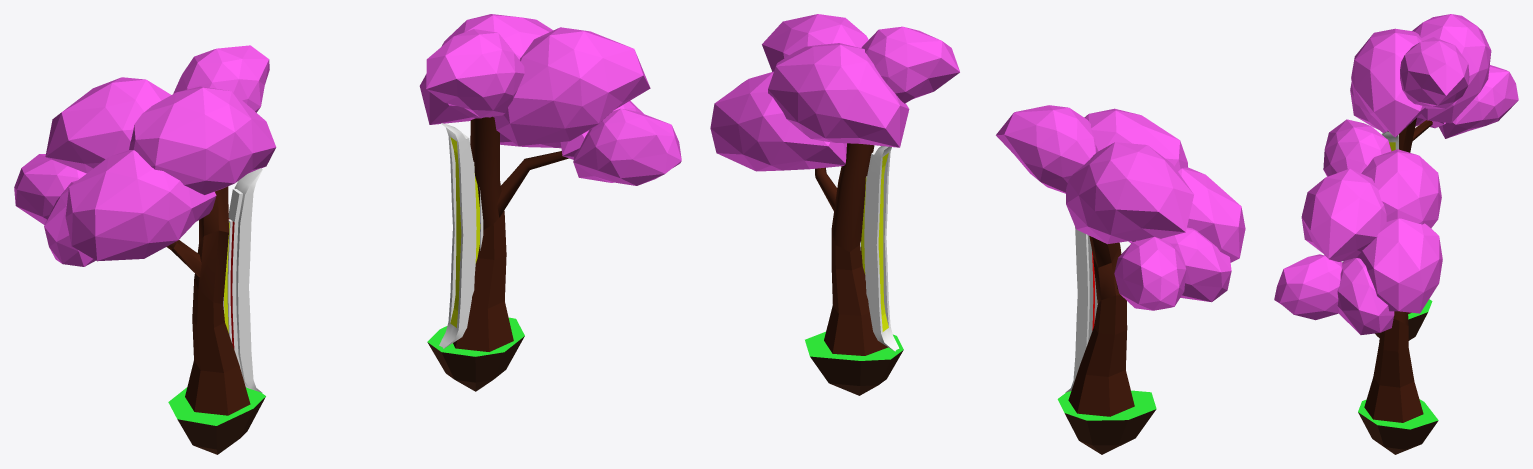
The model's file is WoodPortal.FBX.
3 views of the same model, side by side, from view 1: azimuth 30°, elevation 25°; view 2: azimuth 150°, elevation 25°; view 3: azimuth 270°, elevation 25° (orthographic). The views are drawn at different scales.
Visible parts, largest first — view 1: CherryBlossom; view 2: CherryBlossom; view 3: CherryBlossom.
Part boxes in pixels (x1,y1,x2,y2): CherryBlossom: (14,14,681,454); CherryBlossom: (710,14,1245,454); CherryBlossom: (1274,14,1518,454).
Size of the model in its own units: 957 by 618 by 430.
